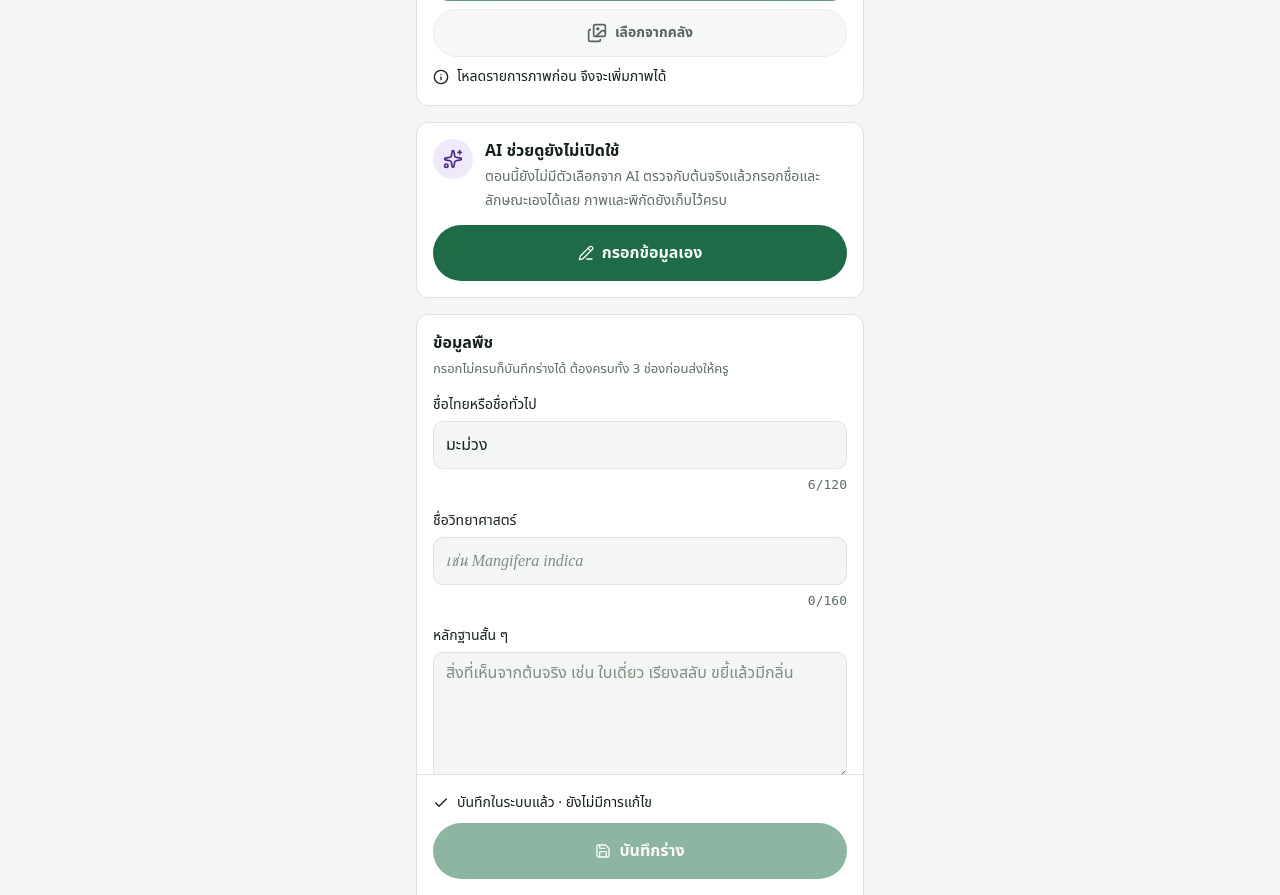
Test: ObservationDraftScreen › can drop the student's edits for the latest version instead
(page scrolled)
Step 1. Clear the field labelled "ชื่อไทยหรือชื่อทั่วไป" → (640, 445), box [433,421,847,469]
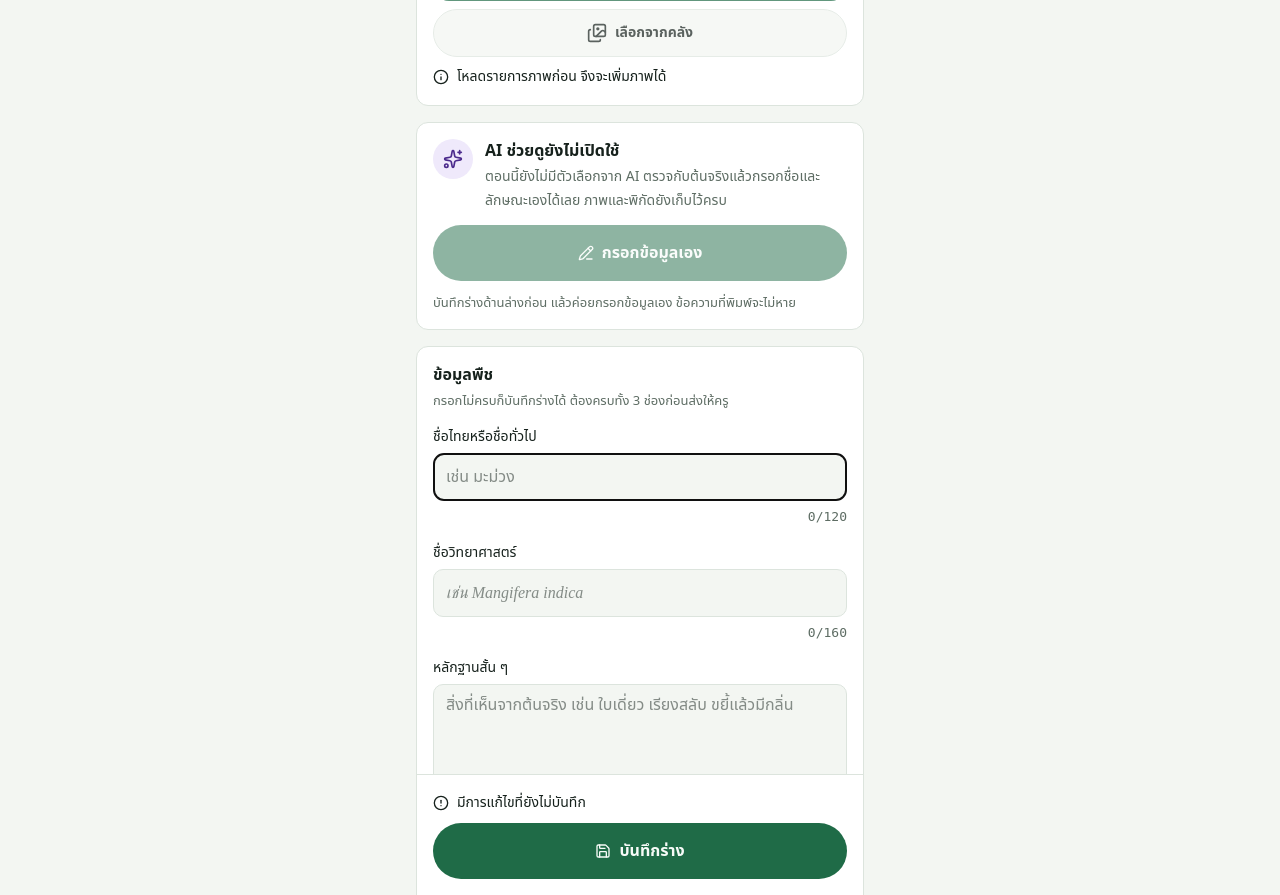
Step 2. Type "มะม่วงหิมพานต์" into the field labelled "ชื่อไทยหรือชื่อทั่วไป" → (640, 477), box [433,453,847,501]
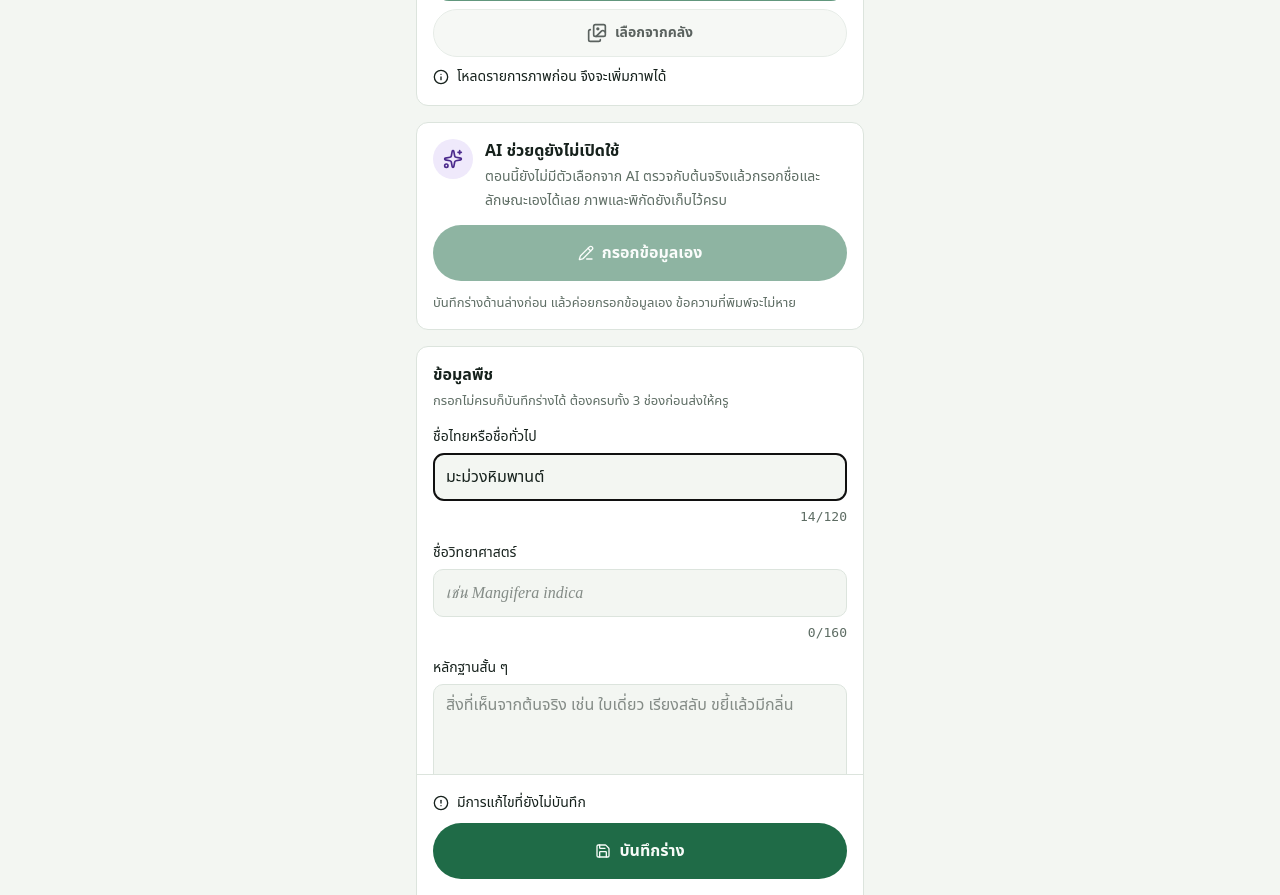
Step 3. Click the button "บันทึกร่าง" → (640, 851), box [433,823,847,879]
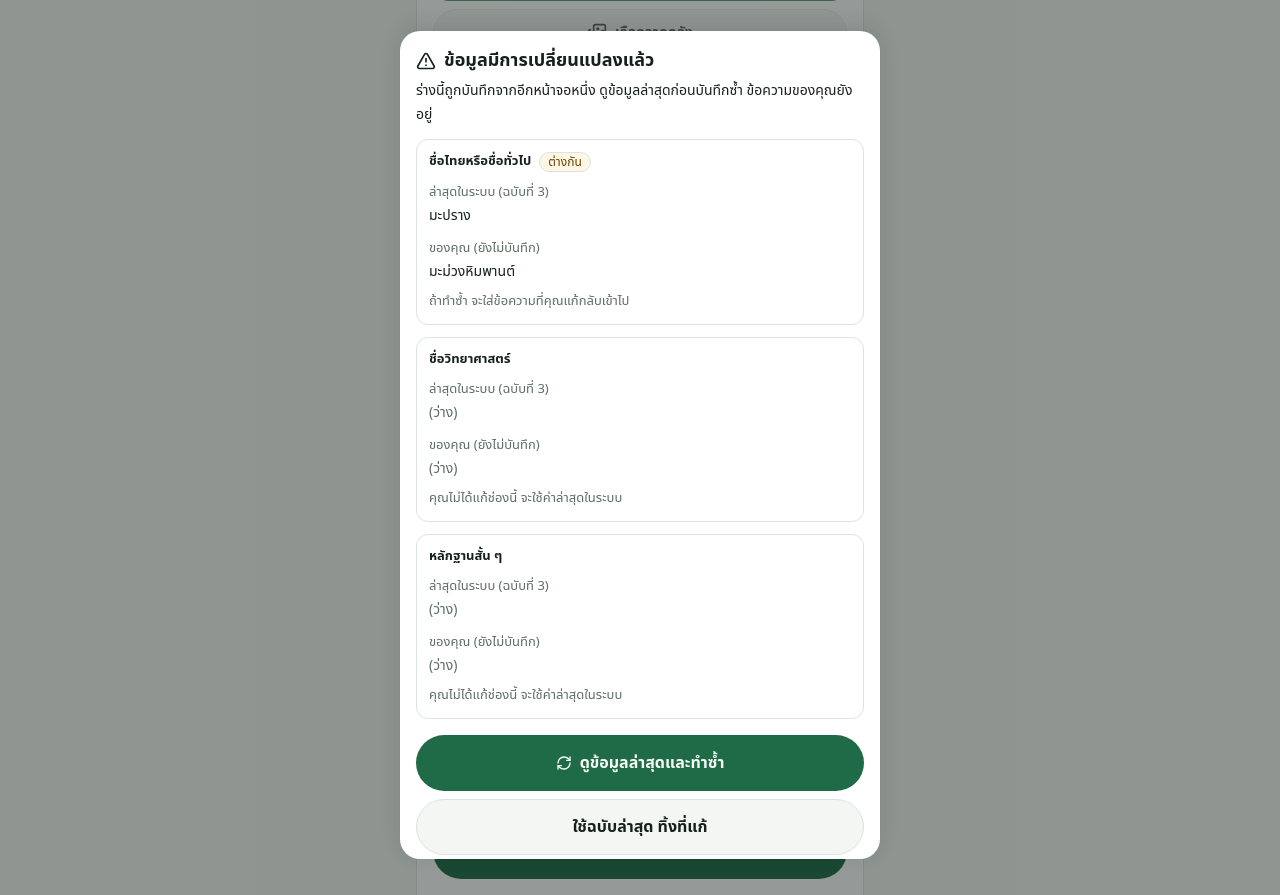
Step 4. Click the button "ใช้ฉบับล่าสุด ทิ้งที่แก้" → (640, 826), box [416,798,864,854]
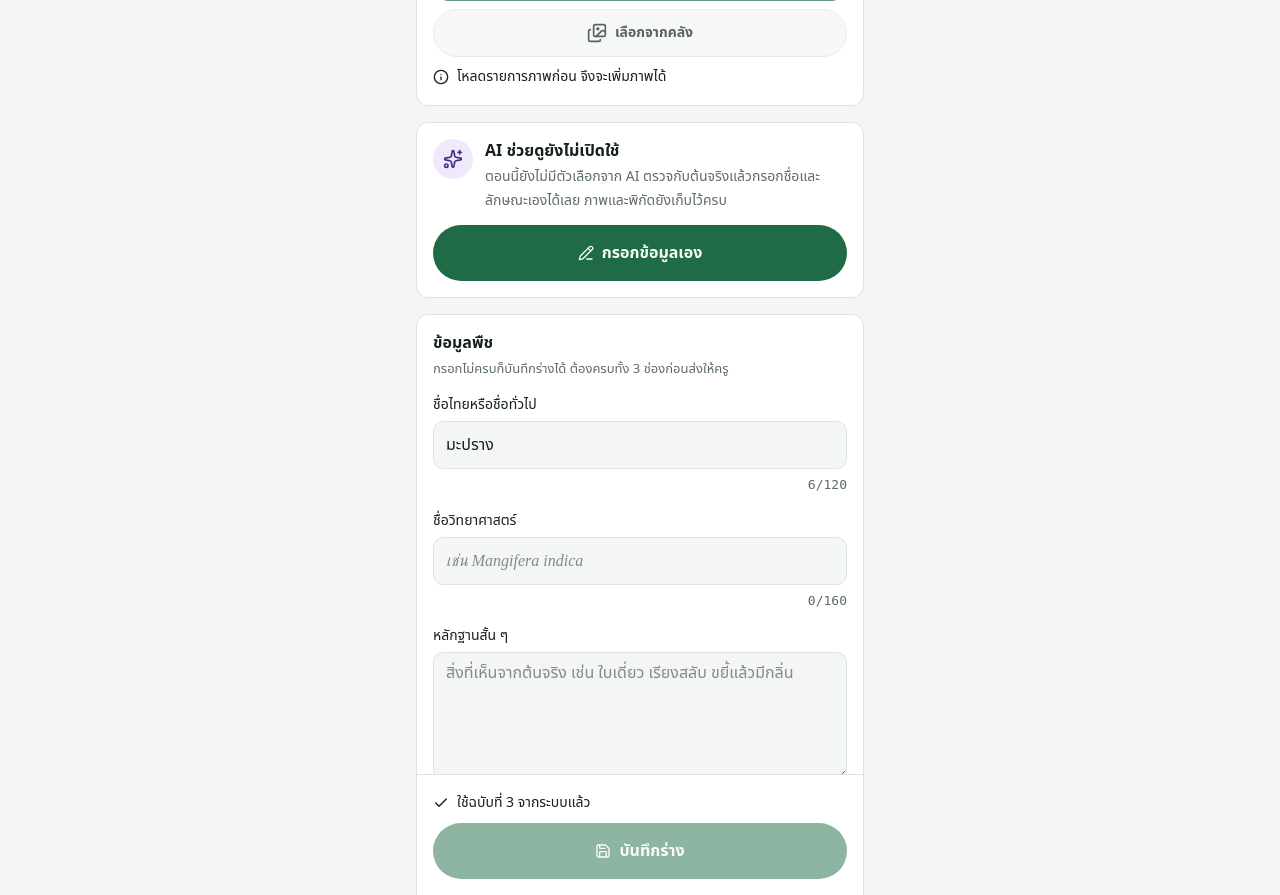
Check: the field labelled "ชื่อไทยหรือชื่อทั่วไป" holds "มะปราง", box [433,421,847,469]
Check: the button "บันทึกร่าง" is disabled, box [433,823,847,879]
